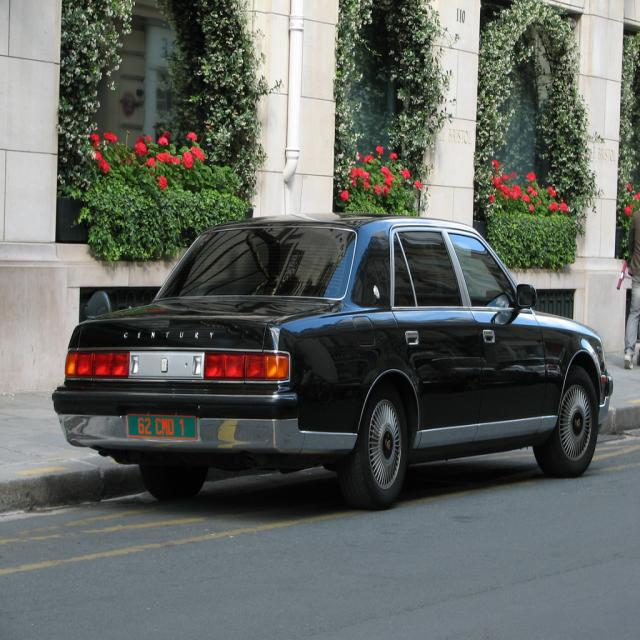car: (47, 205, 612, 514)
